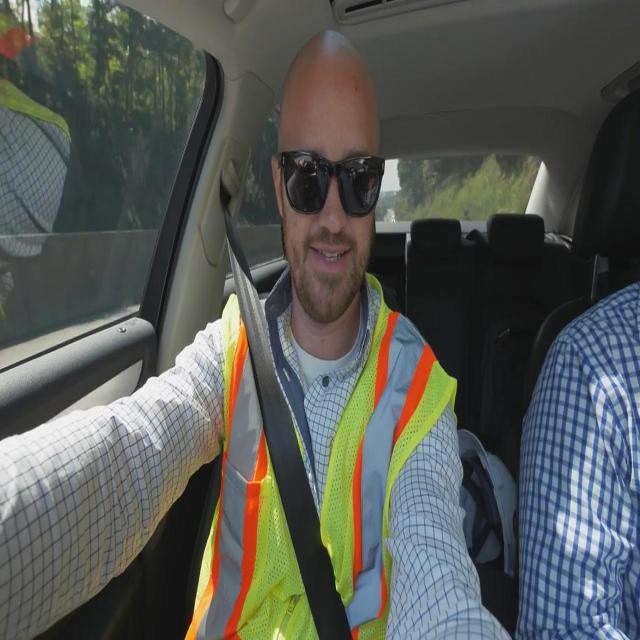Reflective-Jacket: (184, 284, 458, 640)
